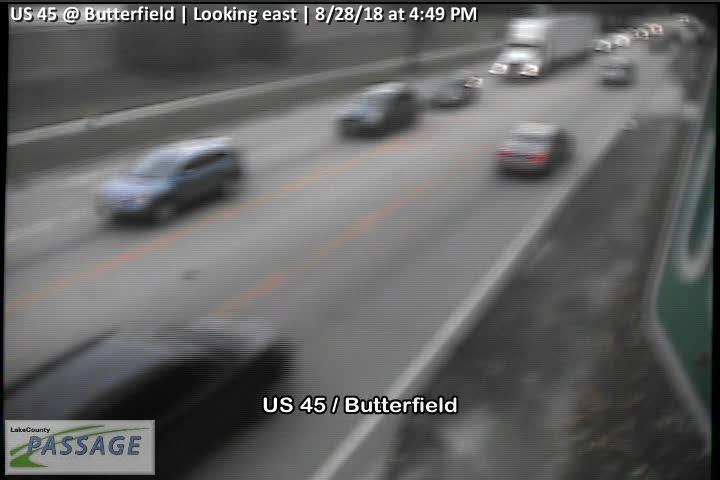SUV: (1, 312, 299, 478), (90, 135, 244, 229), (331, 80, 418, 139), (599, 56, 636, 86)
Sedan: (489, 7, 603, 79), (492, 120, 578, 177), (428, 68, 483, 107)
